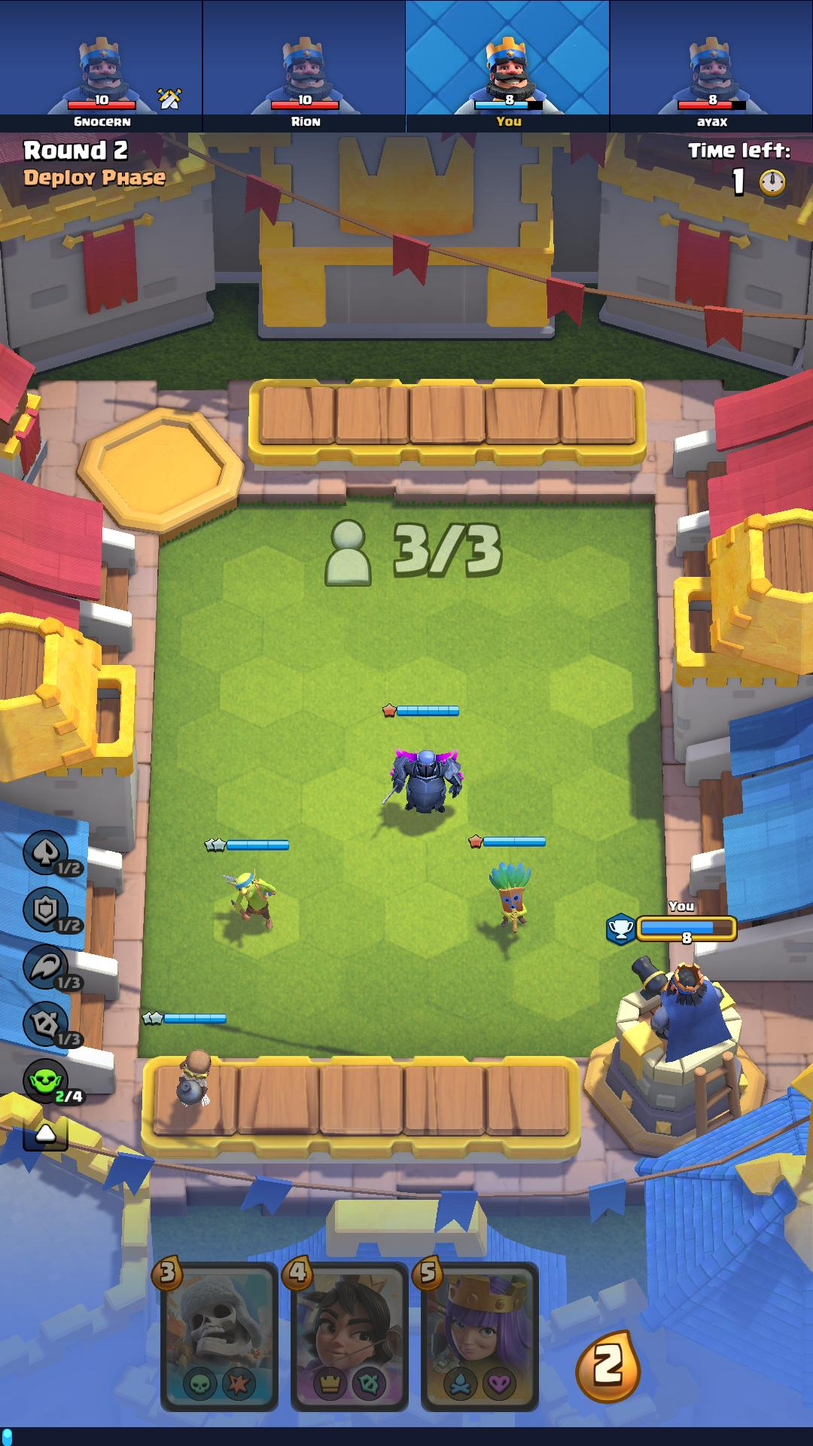bomber: (167, 1037, 228, 1109)
dart: (478, 857, 535, 937)
hand-giant: (161, 1264, 278, 1407)
hand-princess: (292, 1263, 407, 1405)
hand-queen: (421, 1264, 537, 1409)
pekka: (377, 740, 471, 819)
spear: (214, 860, 292, 934)
